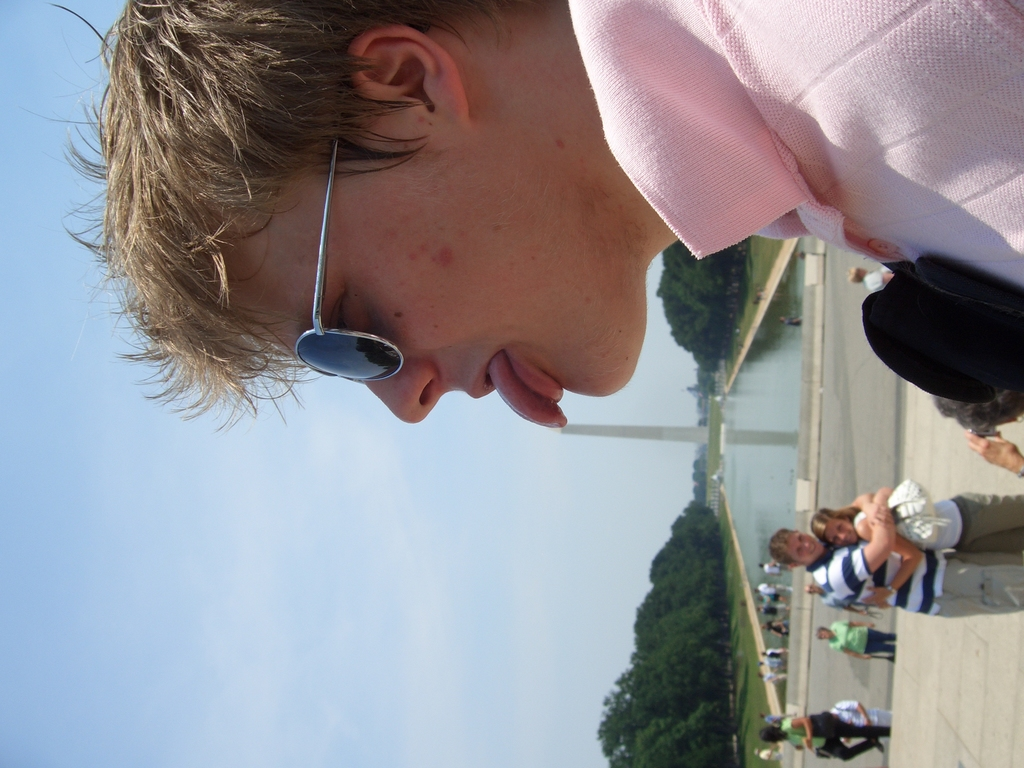Human-face: (210, 118, 662, 431), (793, 533, 826, 563), (825, 518, 857, 547)
